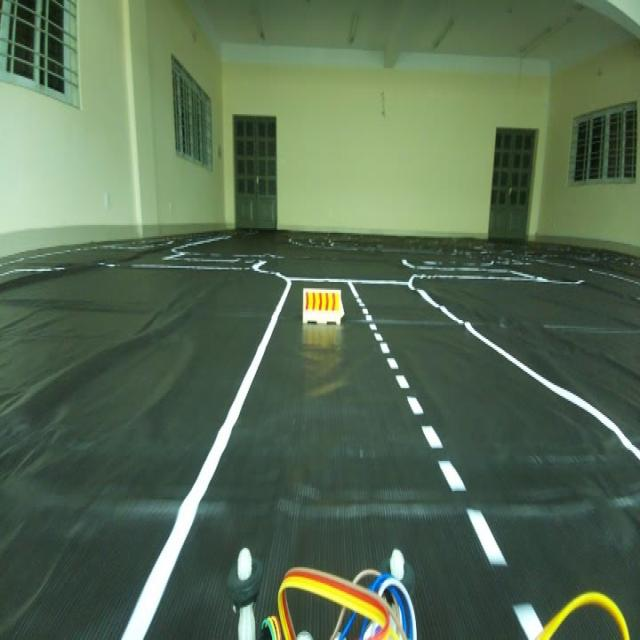roadblock: (300, 284, 349, 338)
